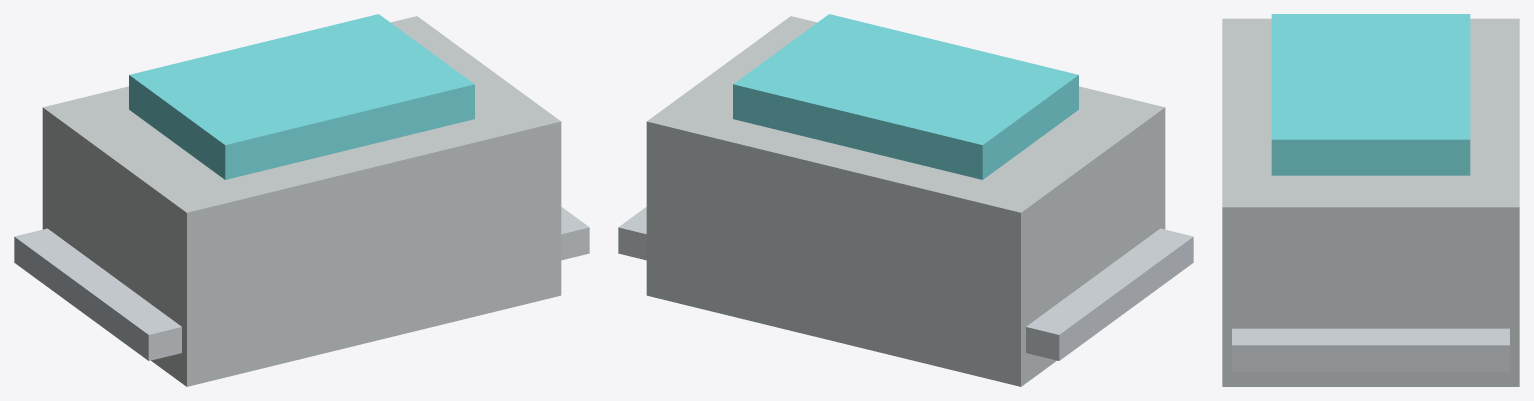
Rendered from 274_L121_LED4.glb.
The picture shows the model from 3 angles, left to right: view 1: azimuth 30°, elevation 25°; view 2: azimuth 150°, elevation 25°; view 3: azimuth 270°, elevation 25°; orthographic projection. The views are drawn at different scales.
Parts seen in each view (by area): view 1: connector_white__PSMAT__connector_white, led_cyan__PSMAT__led_cyan, tin__PSMAT__tin; view 2: connector_white__PSMAT__connector_white, led_cyan__PSMAT__led_cyan, tin__PSMAT__tin; view 3: connector_white__PSMAT__connector_white, led_cyan__PSMAT__led_cyan, tin__PSMAT__tin.
Part boxes in pixels (x1=…): connector_white__PSMAT__connector_white: x1=42, y1=16, x2=561, y2=386; led_cyan__PSMAT__led_cyan: x1=129, y1=14, x2=474, y2=179; tin__PSMAT__tin: x1=14, y1=207, x2=589, y2=360; connector_white__PSMAT__connector_white: x1=646, y1=16, x2=1165, y2=386; led_cyan__PSMAT__led_cyan: x1=733, y1=14, x2=1078, y2=179; tin__PSMAT__tin: x1=618, y1=207, x2=1193, y2=360; connector_white__PSMAT__connector_white: x1=1222, y1=18, x2=1519, y2=386; led_cyan__PSMAT__led_cyan: x1=1271, y1=14, x2=1470, y2=175; tin__PSMAT__tin: x1=1232, y1=328, x2=1509, y2=372.
Size of the model in its own units: 0.0053 by 0.0024 by 0.003.
